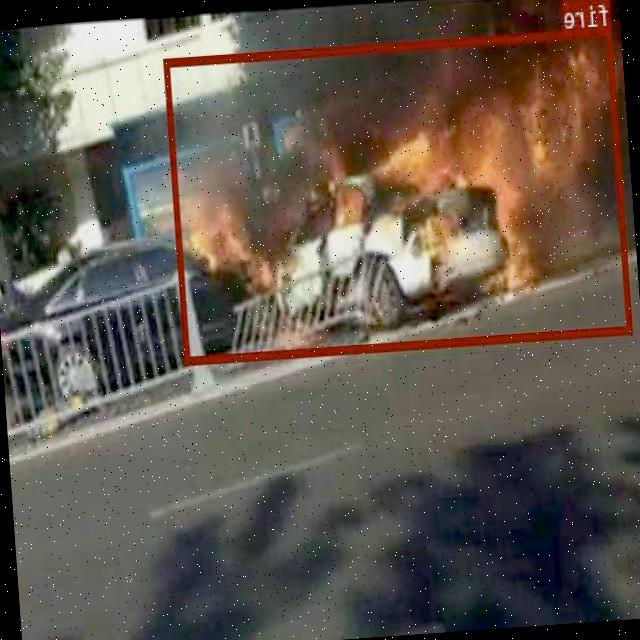fire: (165, 25, 633, 362)
